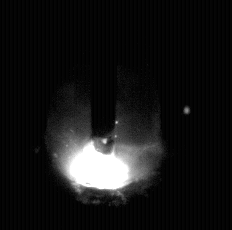arame: (92, 0, 117, 154)
poca: (46, 0, 162, 230)
